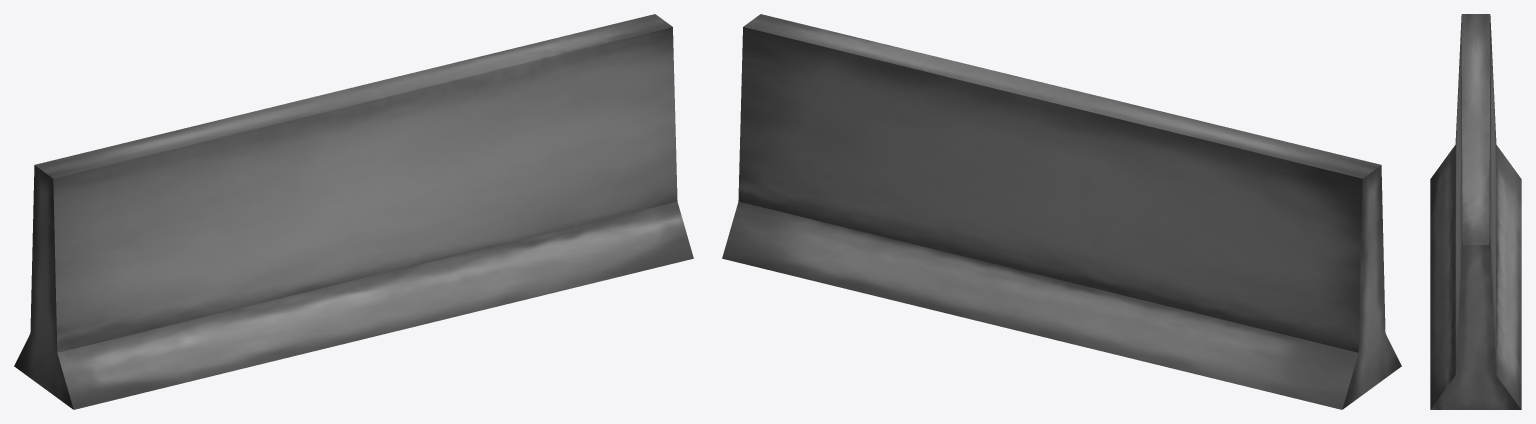
The model's file is Hand.fbx.
3 renders of one model, left to right at view 1: azimuth 30°, elevation 25°; view 2: azimuth 150°, elevation 25°; view 3: azimuth 270°, elevation 25°, orthographic. The views are drawn at different scales.
Parts seen in each view (by area): view 1: Cube; view 2: Cube; view 3: Cube.
Boxes of the visible parts, bbox=[...] form: Cube: bbox=[14, 14, 693, 409]; Cube: bbox=[722, 14, 1401, 409]; Cube: bbox=[1430, 14, 1521, 409].
Bounding box in the file's own units: 600 × 200 × 100.
1 material, 1 textured.
